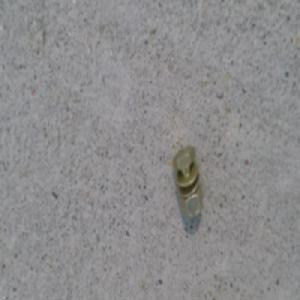BoltNutSet: (173, 147, 202, 218)
